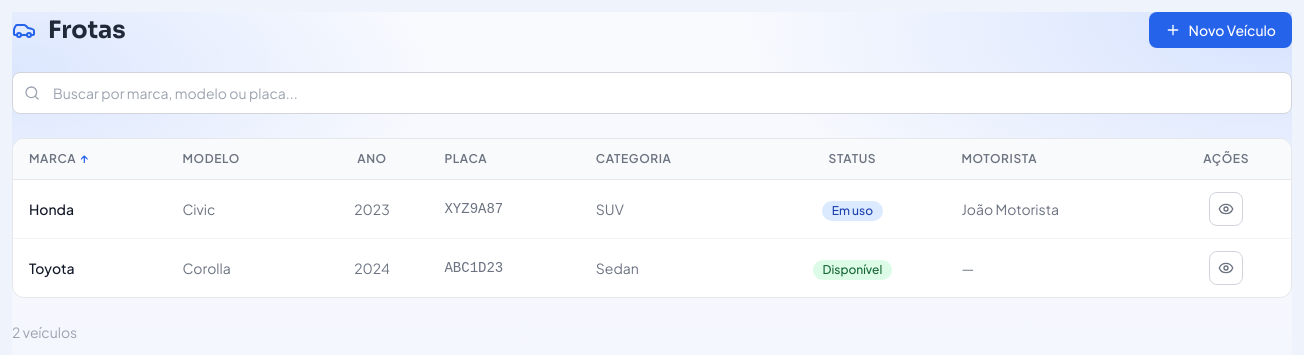
Scenario: FleetListPage › searches by brand (server-side, debounced)
Expected: the text "Toyota" is shown, [13,238,166,297]
Type "Honda" into the field with placeholder "Buscar por marca, modelo ou placa..." at (652, 93), box [12,72,1292,114]
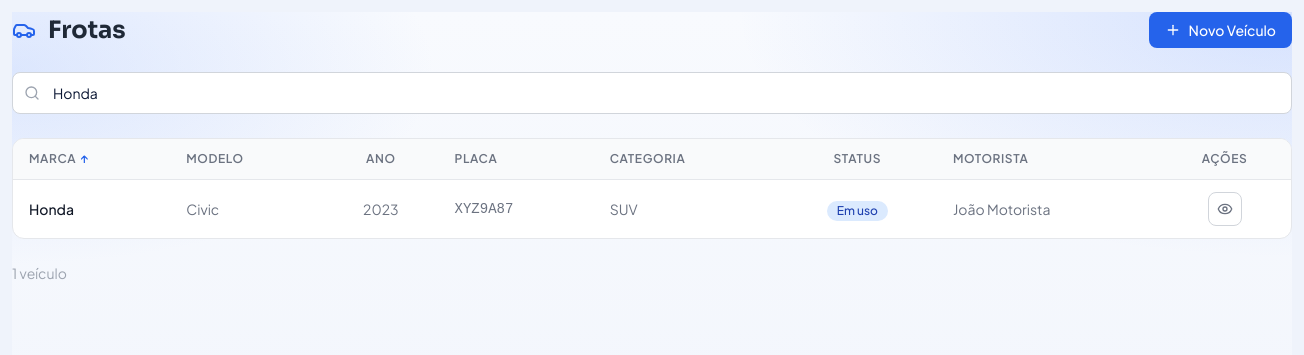
Expected: the text "Honda" is shown, [13,180,170,238]
Expected: the text "Toyota" is gone
